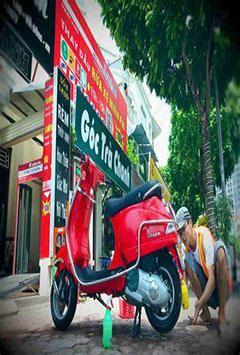motorcycle: (26, 142, 198, 344)
